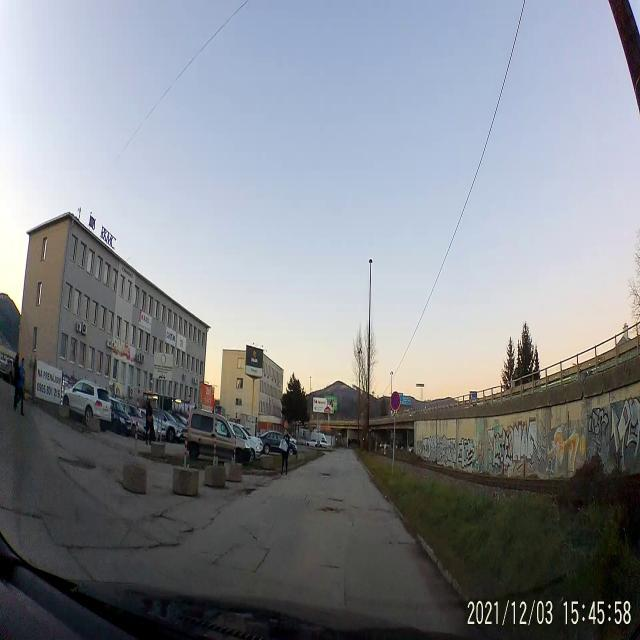Pothole: (314, 504, 342, 518), (326, 494, 344, 504), (320, 470, 332, 480)
